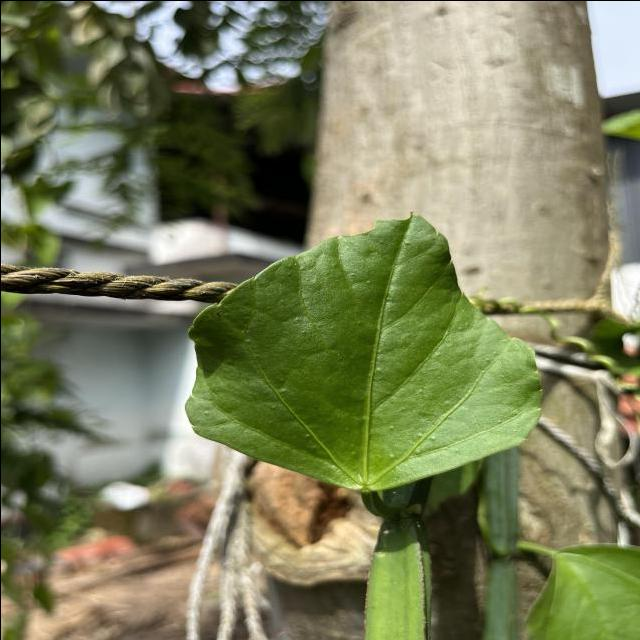Cissus quadrangularis: (179, 207, 545, 496)
